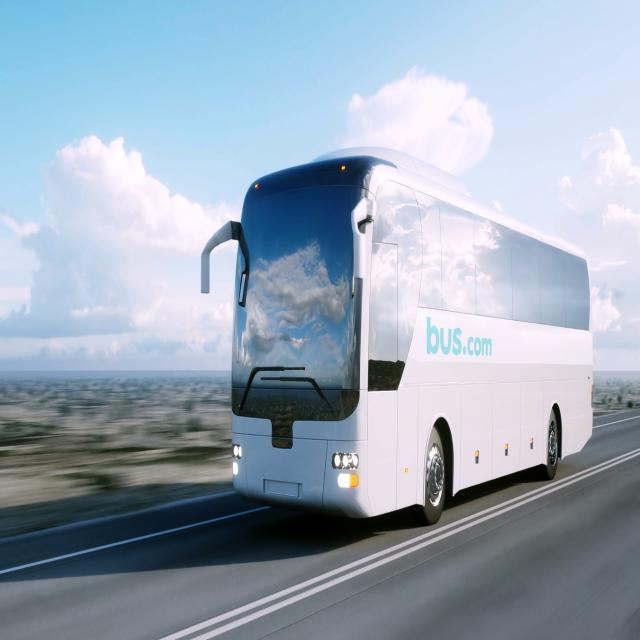bus: (195, 141, 600, 527)
